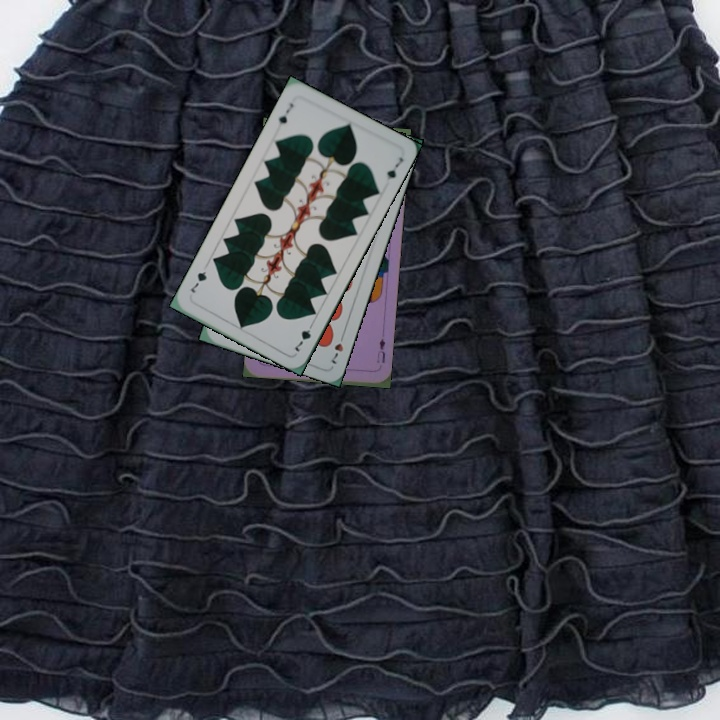EU: (373, 335, 388, 366)
G7: (291, 318, 317, 354), (273, 99, 296, 131)
H7: (327, 328, 348, 367)
